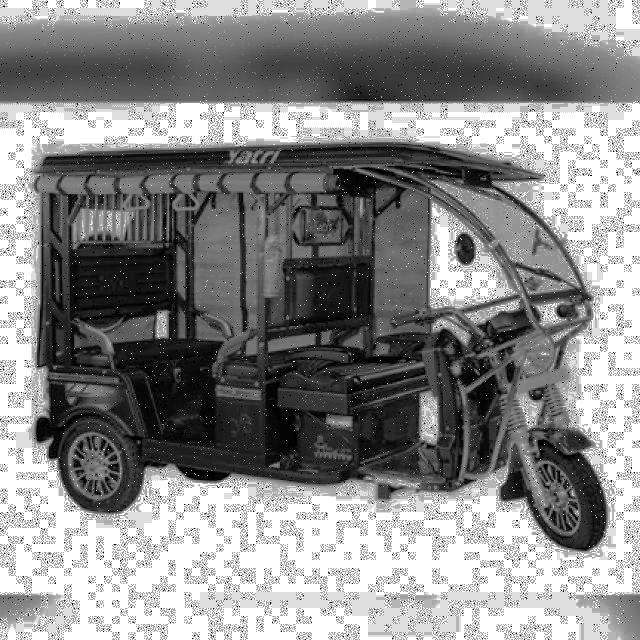Toto: (32, 132, 604, 548)
